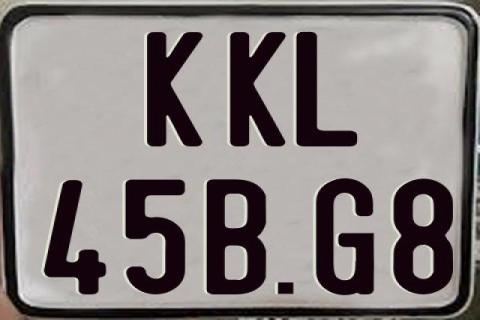0: (43, 180, 110, 298), (392, 177, 454, 296), (125, 177, 187, 295)
B: (206, 178, 270, 294)
G: (313, 179, 377, 295)
K: (146, 30, 206, 148), (228, 32, 290, 146)
L: (296, 31, 359, 151)
